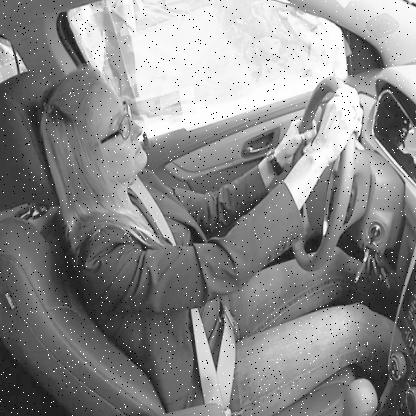seatbelt: (16, 60, 224, 336)
